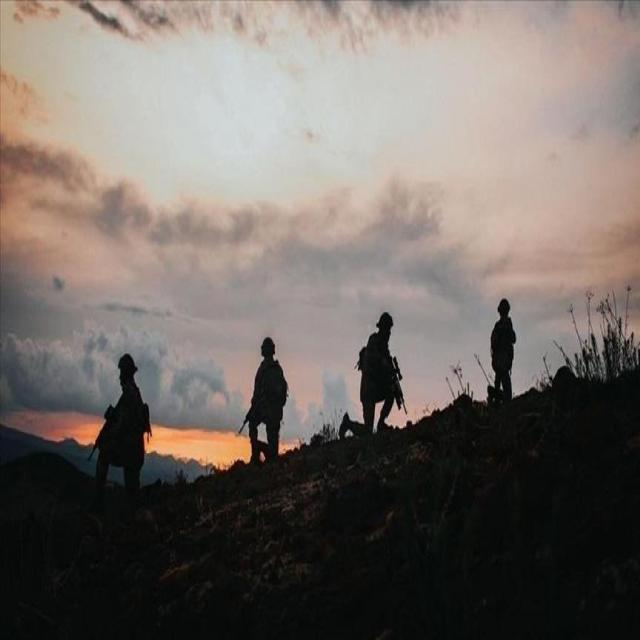Forest: (0, 1, 640, 639)
Militant: (339, 295, 416, 501), (88, 333, 163, 540), (236, 315, 300, 503), (469, 263, 527, 462)
